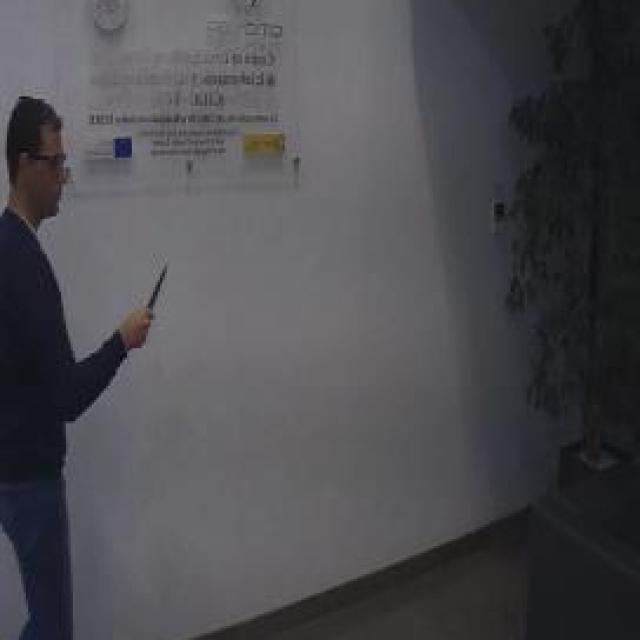knife: (133, 256, 172, 352)
